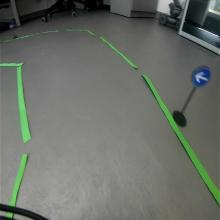left: (191, 64, 212, 89)
